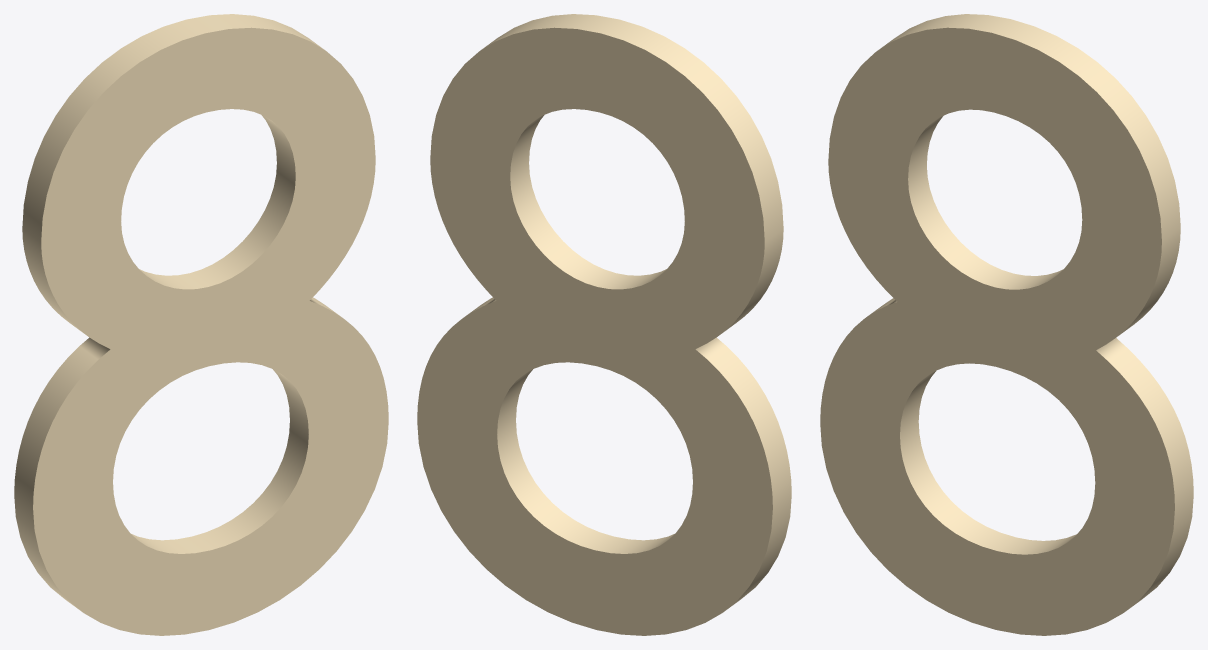
The picture shows the model from 3 angles, left to right: view 1: azimuth 30°, elevation 25°; view 2: azimuth 150°, elevation 25°; view 3: azimuth 330°, elevation 25°; orthographic projection.
Parts seen in each view (by area): view 1: テキスト; view 2: テキスト; view 3: テキスト.
Part boxes in pixels (box(x1,y1,x2,y2)): テキスト: box(14, 14, 388, 635); テキスト: box(417, 14, 791, 635); テキスト: box(820, 14, 1193, 635).
Size of the model in its own units: 0.436 by 0.7 by 0.04.
